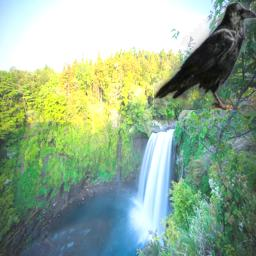Crow: (154, 2, 256, 110)
